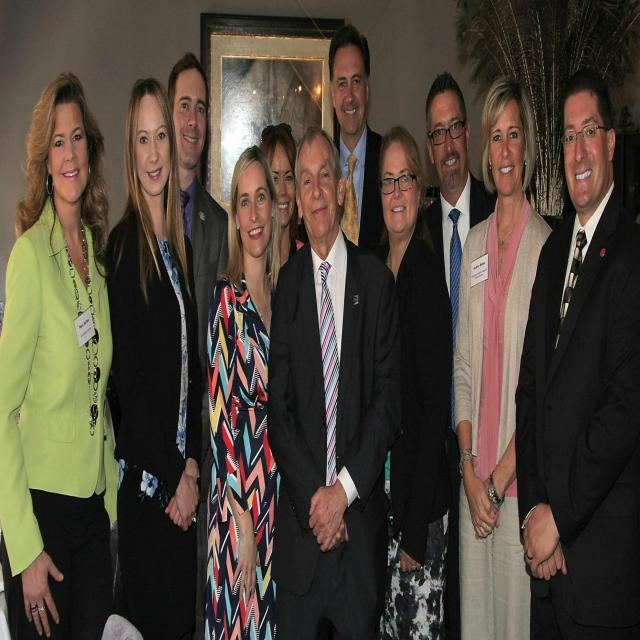body: (512, 67, 640, 639), (265, 120, 406, 639), (0, 65, 121, 640), (450, 75, 555, 640), (101, 73, 203, 640), (417, 72, 497, 635), (201, 135, 290, 639), (373, 122, 451, 639), (166, 49, 229, 640), (328, 22, 388, 261), (259, 118, 307, 272)
